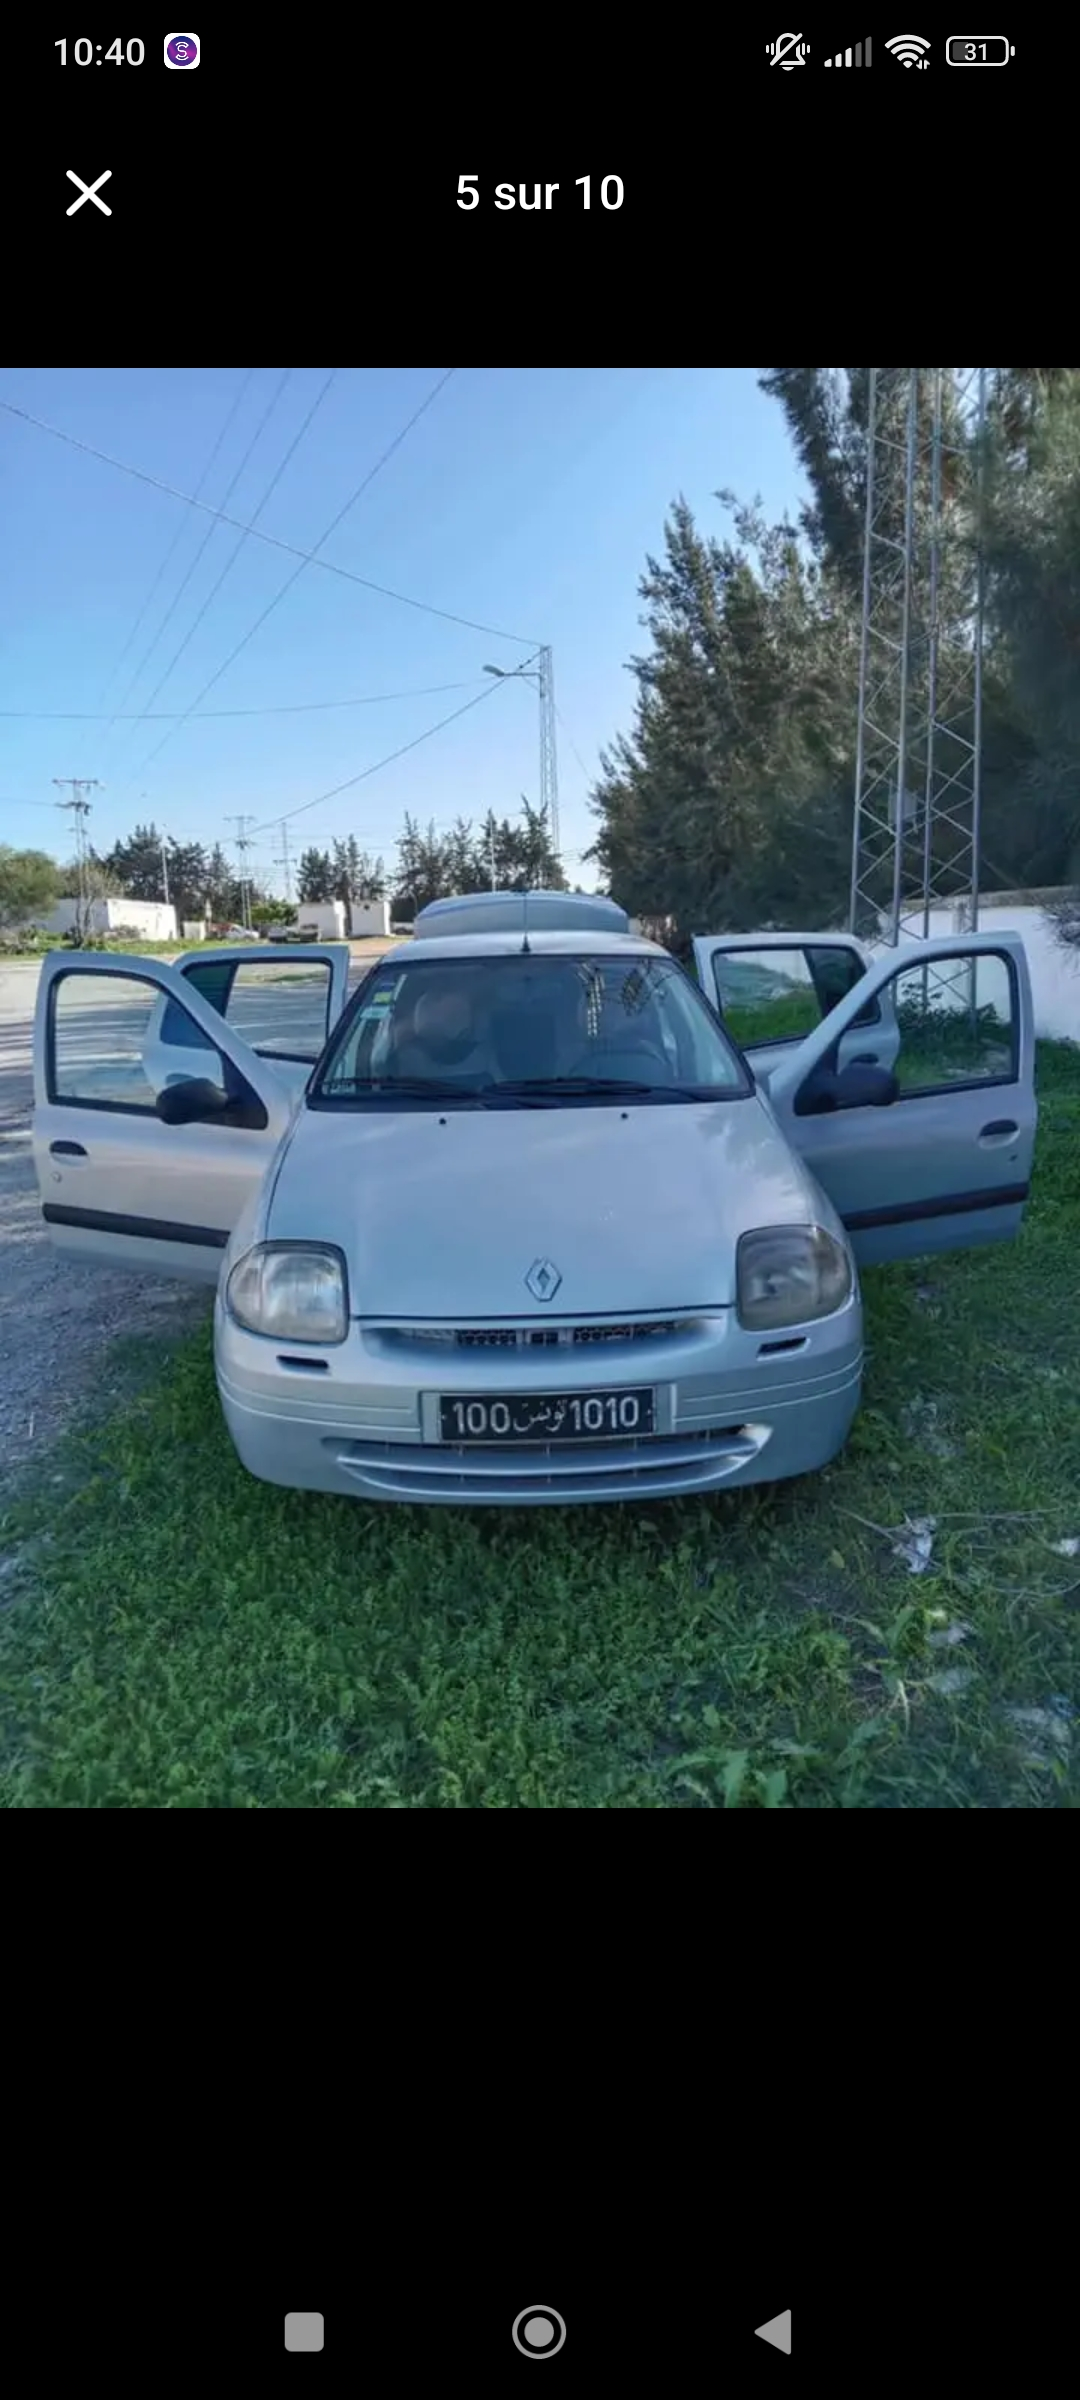renault: (31, 894, 1046, 1528)
